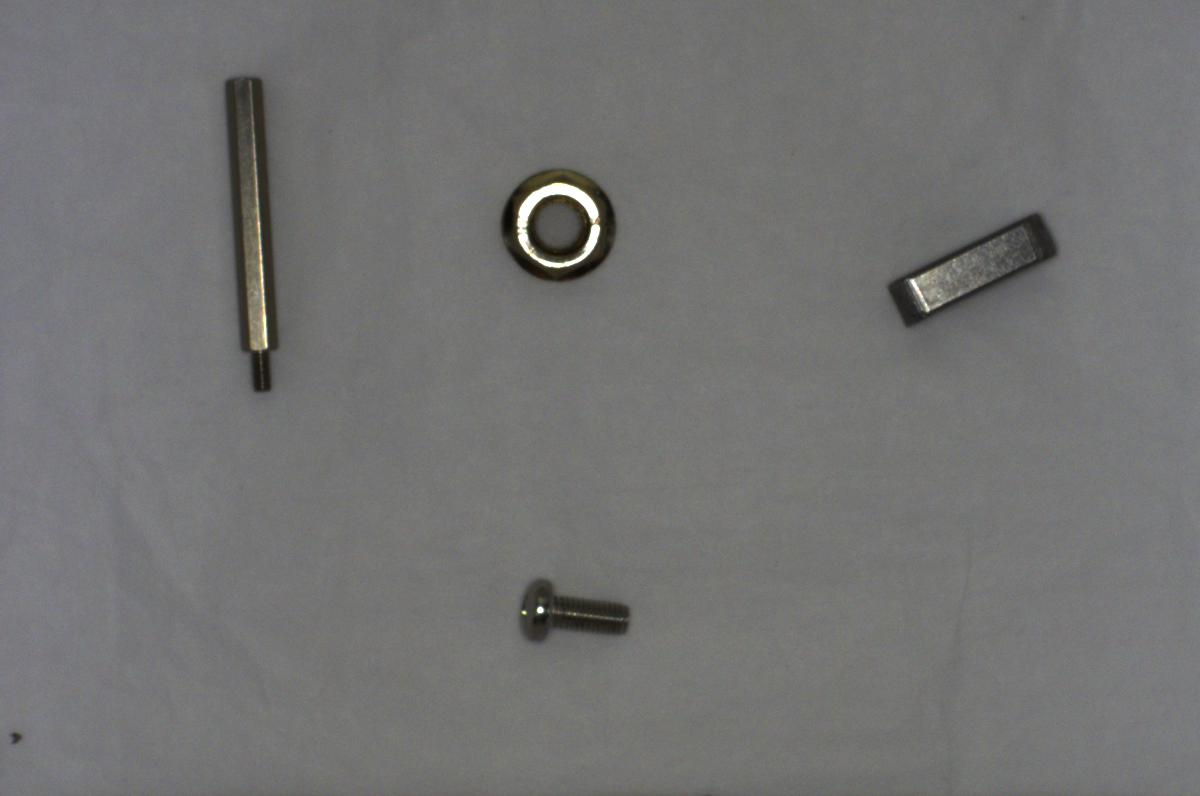Flange nut: (491, 156, 625, 285)
Hexagonal steel column: (213, 60, 299, 401)
Keybar: (879, 200, 1071, 347)
Round head screw: (511, 567, 642, 653)
